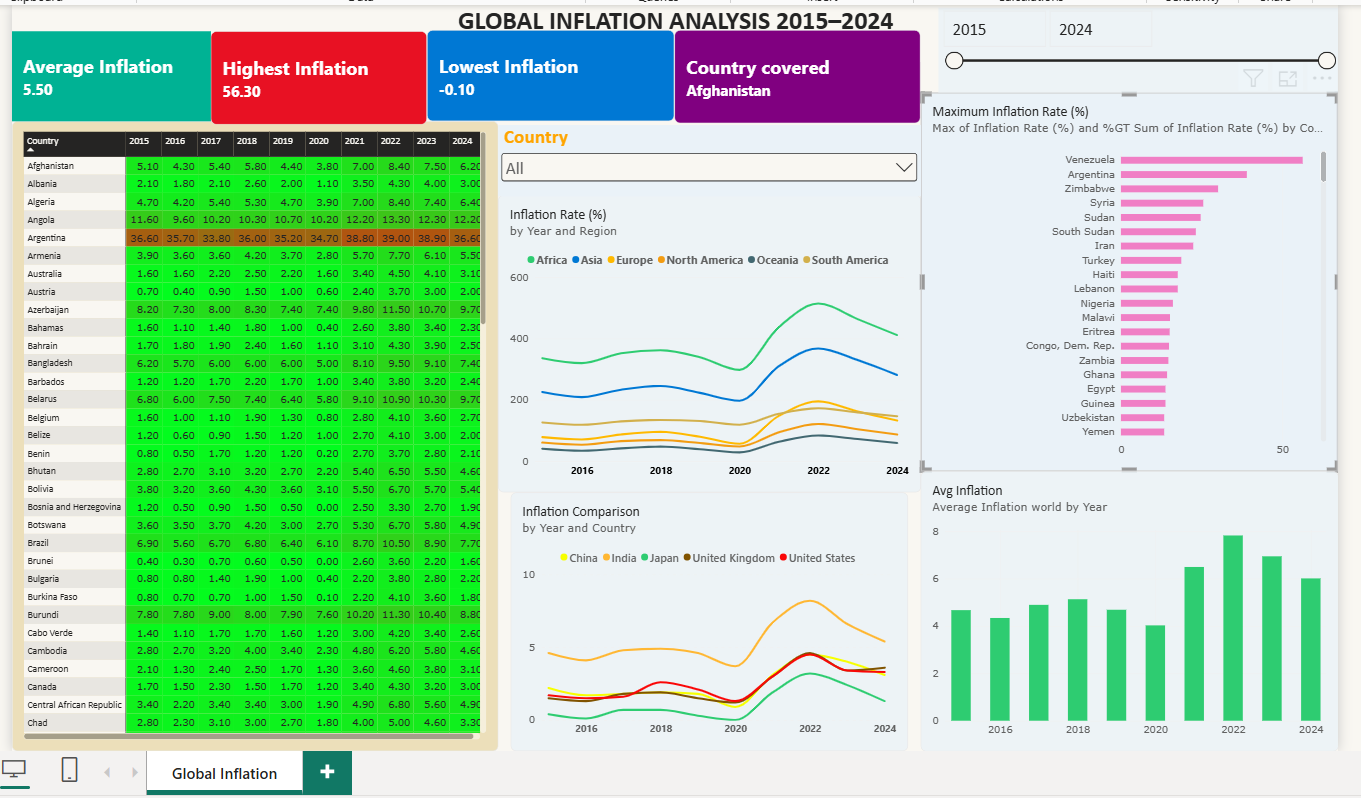

This screenshot's page, from the dashboard's own definition file:
{"tool":"powerbi","page":{"name":"Global Inflation","canvas":[1920,1080],"ordinal":0},"visuals":[{"type":"lineChart","fields":{"Category":["global_inflation_160_countries_2015_2024.Year"],"Y":["Sum(global_inflation_160_countries_2015_2024.Inflation Rate (%))"],"Series":["global_inflation_160_countries_2015_2024.Region"]},"box":[704,275.1,611.7,430.7],"z":0},{"type":"clusteredBarChart","title":"Maximum Inflation Rate (%)","fields":{"Category":["global_inflation_160_countries_2015_2024.Country"],"Y":["Max(Inflation.Inflation Rate (%))"]},"box":[1315.6,126.7,604.4,548.3],"z":1000},{"type":"clusteredColumnChart","title":"Avg Inflation","fields":{"Y":["Inflation.AvgInflation"],"Category":["Inflation.Year"]},"box":[1315.6,675,604.4,405.4],"z":2000},{"type":"pivotTable","fields":{"Rows":["Inflation.Country"],"Columns":["Inflation.Year"],"Values":["Avg(Inflation.Inflation Rate (%))"]},"box":[0,168.3,704,912.1],"z":3000},{"type":"slicer","fields":{"Values":["Inflation.Country"]},"box":[704,173.7,611.7,103.2],"z":4000},{"type":"slicer","fields":{"Values":["Inflation.Year"]},"box":[1341,3.6,579.1,123.1],"z":5000},{"type":"lineChart","fields":{"Y":["Inflation.AvgInflation"],"Category":["Inflation.Year"],"Series":["Inflation.Country"]},"box":[722.1,705.8,575.5,374.6],"z":6000},{"type":"textbox","box":[623.5,0,673.1,76.2],"z":7000},{"type":"cardVisual","fields":{"Data":["Inflation.AvgInflation"]},"box":[0,38,287.7,130.3],"z":8000},{"type":"cardVisual","fields":{"Data":["Min(Inflation.Country)"]},"box":[959.1,36.2,356.5,135.7],"z":9000},{"type":"cardVisual","fields":{"Data":["Inflation.MinInflation"]},"box":[600.8,36.2,358.3,132.1],"z":10000},{"type":"cardVisual","fields":{"Data":["Inflation.MaxInflation"]},"box":[287.7,38,313.1,135.7],"z":11000}]}

Visuals, with their boxes in screenshot pixels (x1, y1, x2, y2):
lineChart - global_inflation_160_countries_2015_2024.Year x Sum(global_inflation_160_countries_2015_2024.Inflation Rate (%)): left=475, top=199, right=918, bottom=512
"Maximum Inflation Rate (%)" clusteredBarChart: left=918, top=92, right=1356, bottom=489
"Avg Inflation" clusteredColumnChart: left=918, top=489, right=1356, bottom=783
pivotTable - Inflation.Country x Inflation.Year: left=0, top=122, right=475, bottom=783
slicer - Inflation.Country: left=475, top=126, right=918, bottom=201
slicer - Inflation.Year: left=936, top=3, right=1356, bottom=92
lineChart - Inflation.AvgInflation x Inflation.Year: left=488, top=512, right=905, bottom=783
textbox: left=416, top=0, right=904, bottom=55
cardVisual - Inflation.AvgInflation: left=0, top=28, right=173, bottom=122
cardVisual - Min(Inflation.Country): left=660, top=26, right=918, bottom=125
cardVisual - Inflation.MinInflation: left=400, top=26, right=660, bottom=122
cardVisual - Inflation.MaxInflation: left=173, top=28, right=400, bottom=126
